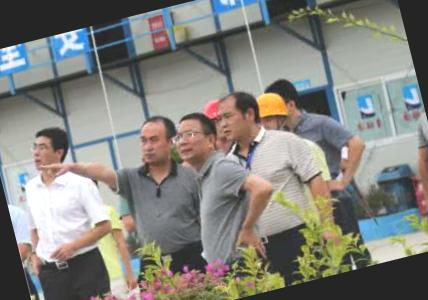no_helmet: (130, 108, 185, 173), (210, 85, 262, 148), (168, 106, 220, 166), (25, 118, 78, 174), (265, 74, 307, 124)
